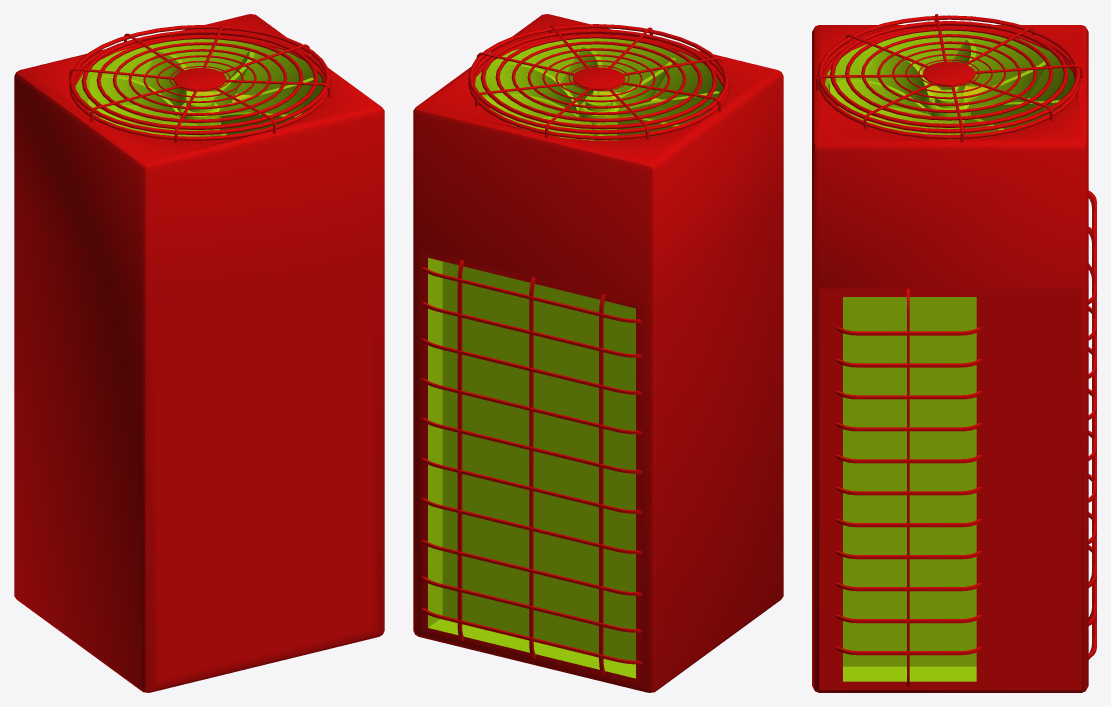
The picture shows the model from 3 angles, left to right: view 1: azimuth 30°, elevation 25°; view 2: azimuth 150°, elevation 25°; view 3: azimuth 270°, elevation 25°; orthographic projection. The views are drawn at different scales.
Parts seen in each view (by area): view 1: OU_82; view 2: OU_82; view 3: OU_82.
Part boxes in pixels (left/top/right/bottom): OU_82: left=14, top=14, right=384, bottom=692; OU_82: left=413, top=14, right=783, bottom=692; OU_82: left=812, top=14, right=1096, bottom=692.
Size of the model in its own units: 33.36 by 67.79 by 31.
